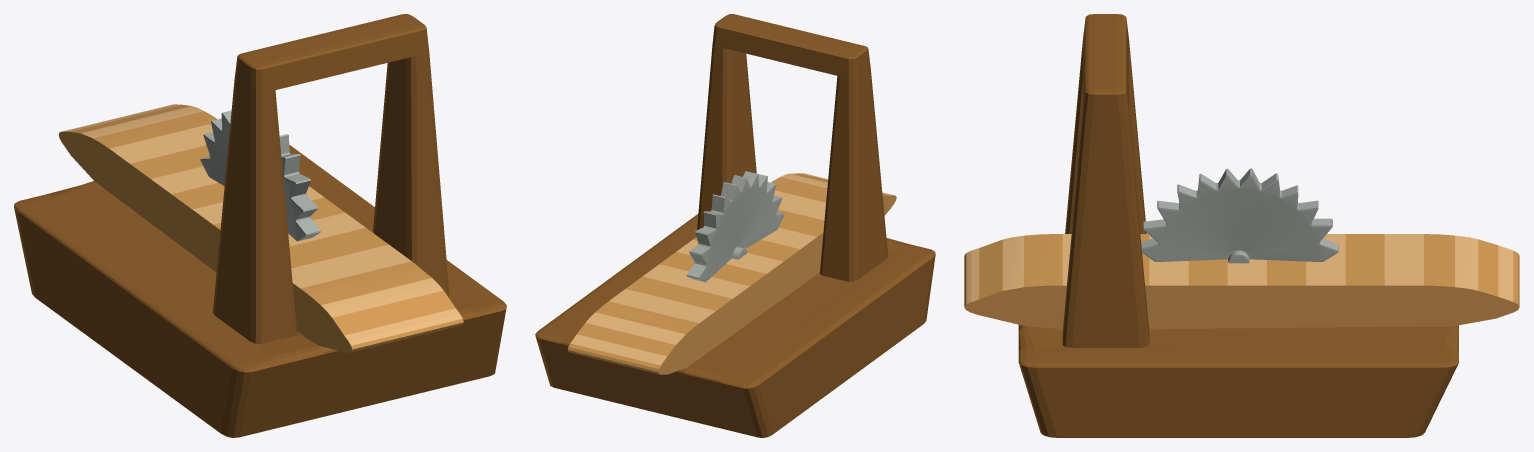
The model's file is Machine.fbx.
3 views of the same model, side by side, from view 1: azimuth 30°, elevation 25°; view 2: azimuth 150°, elevation 25°; view 3: azimuth 270°, elevation 25° (orthographic). The views are drawn at different scales.
Visible parts, largest first — view 1: Machine; view 2: Machine; view 3: Machine.
Boxes of the visible parts, x1,y1,x2,y2 form: Machine: (14, 14, 506, 437); Machine: (535, 14, 935, 437); Machine: (964, 14, 1519, 437).
Size of the model in its own units: 140 by 169 by 262.
